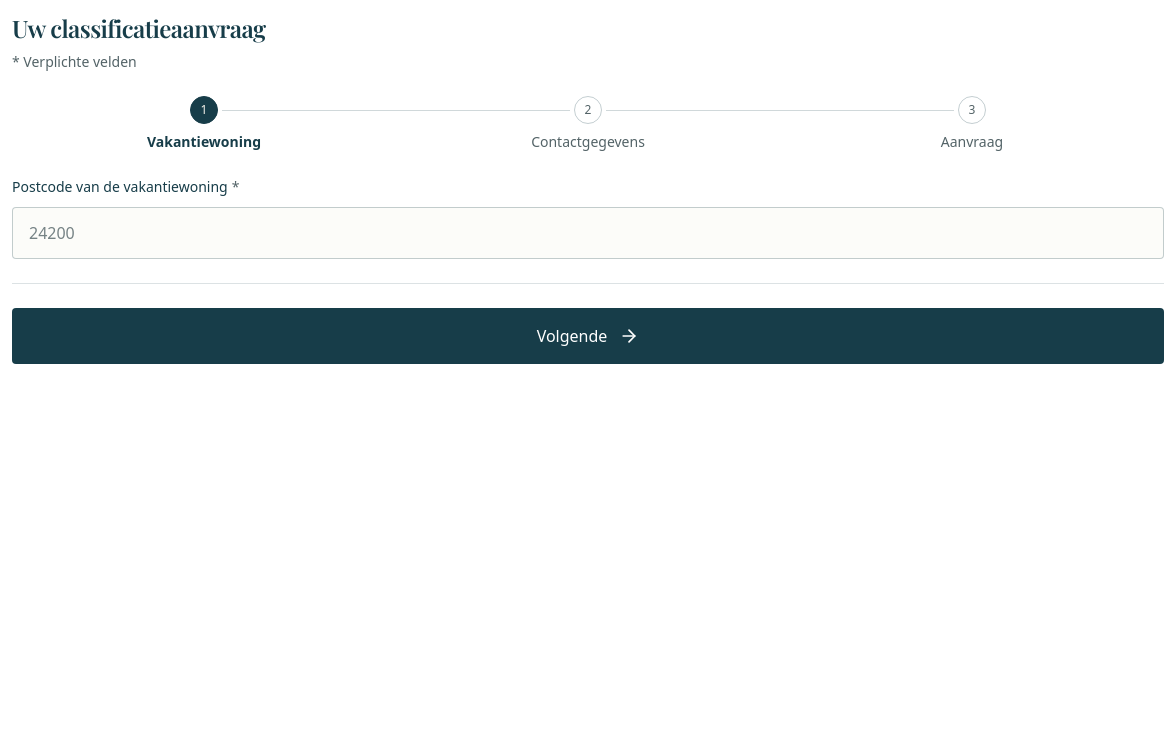
Scenario: étape Logement › auto-selects and displays a single commune: nl
The image size is (1176, 732).
Type "24150" into the field labelled "Postcode van de vakantiewoning*" at (588, 233), box [12, 207, 1164, 259]
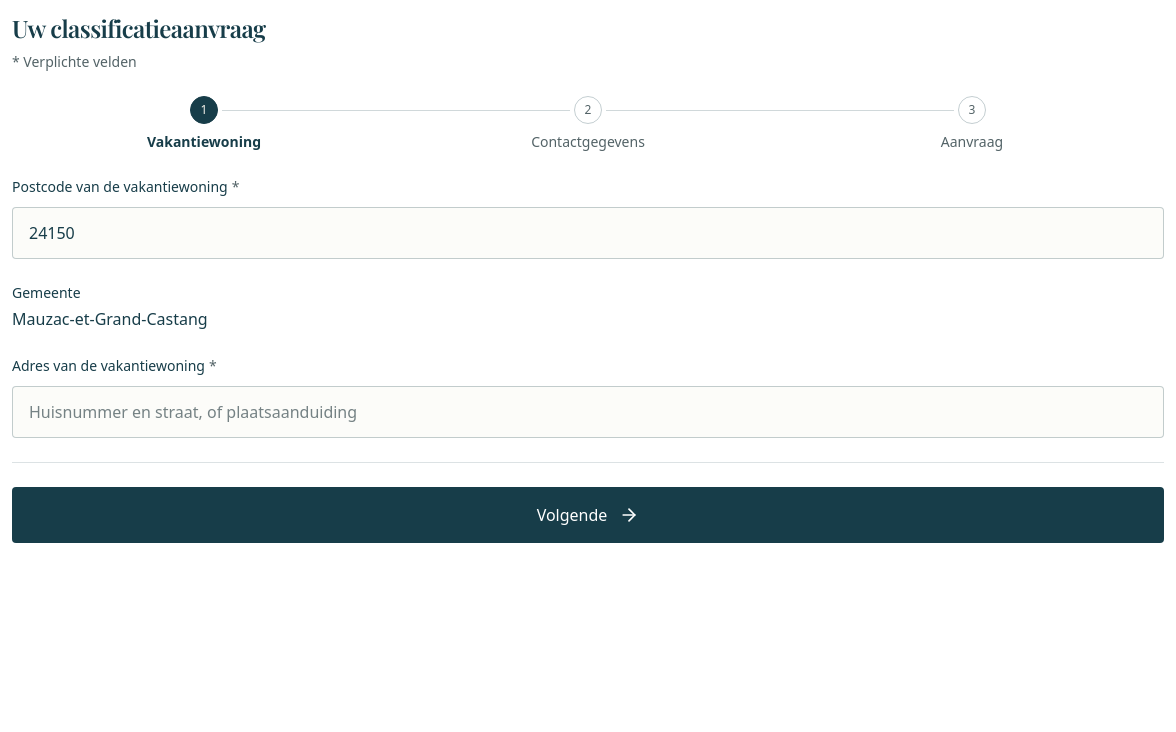
Expected: the text "Mauzac-et-Grand-Castang" is shown, [12, 308, 208, 330]
